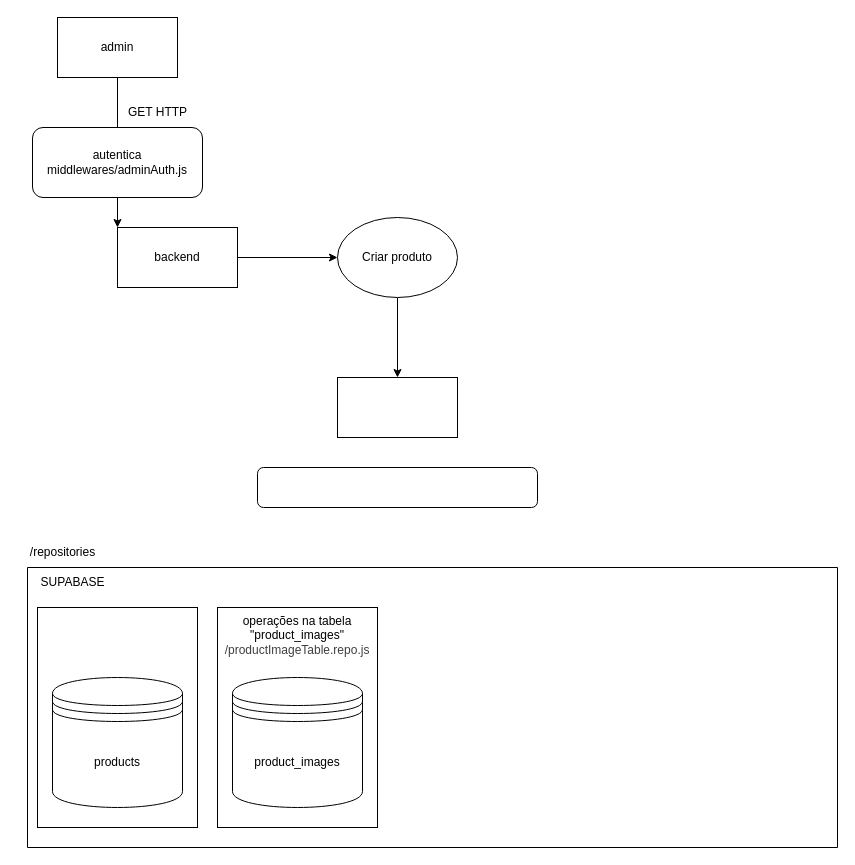
This 855x865 diagram has some shape labels left out. The box of each missing label's shape, as (x1, y1, x2, y2) in pixels:
adminCreateProduct: (336, 376, 458, 438)
operações na tabela "products" /product.repo.js: (36, 606, 198, 828)
Valida entradas /utils/productDataValidation.js: (256, 466, 538, 508)
